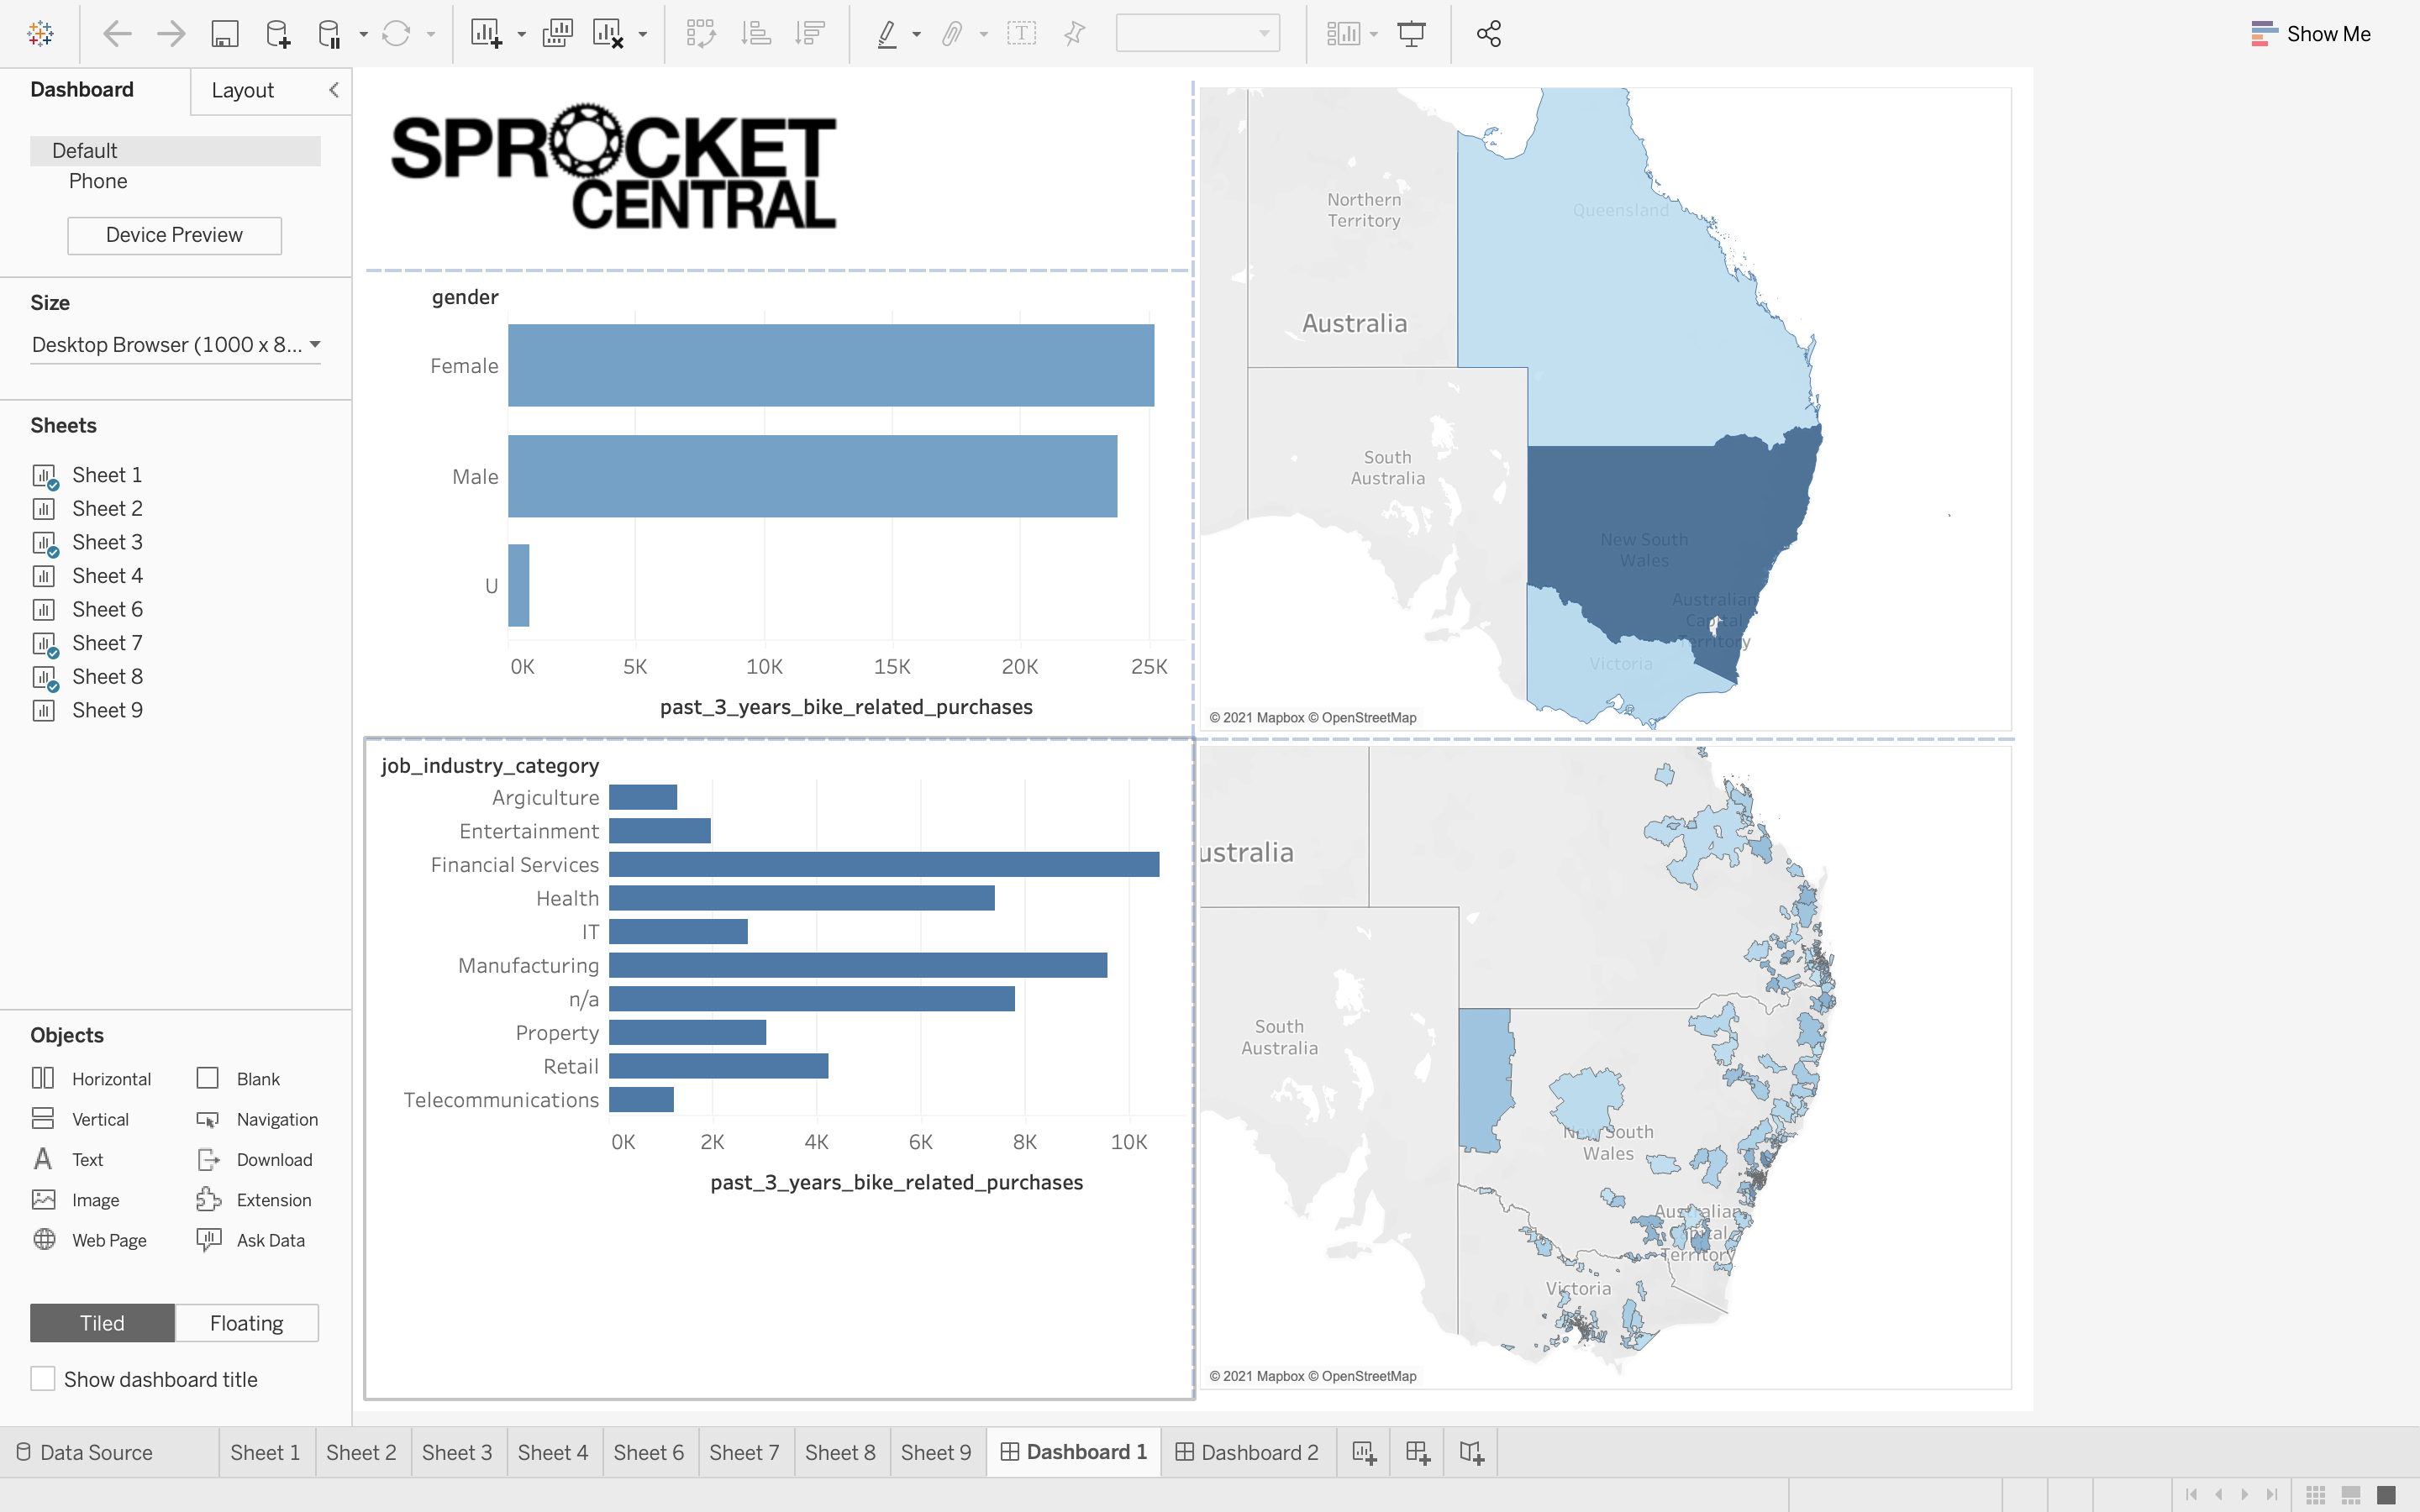

The dashboard page shown, as its layout file describes it:
{"tool":"tableau","page":{"name":"Dashboard 1","canvas":[1000,800],"ordinal":0},"visuals":[{"type":"image","param":"/Users/arpitabhattacharya/Desktop/Warwick /Internship/KPMG/title.png","box":[8,8,492,113]},{"type":"worksheet","title":"Sheet 7","mark":"Multipolygon","box":[500,8,492,392]},{"type":"worksheet","title":"Sheet 1","mark":"Automatic","rows":["gender"],"cols":["past_3_years_bike_related_purchases"],"box":[8,121,492,279]},{"type":"worksheet","title":"Sheet 3","mark":"Automatic","rows":["job_industry_category"],"cols":["past_3_years_bike_related_purchases"],"box":[8,400,492,392]},{"type":"worksheet","title":"Sheet 8","mark":"Multipolygon","box":[500,400,492,392]}]}

Visuals, with their boxes on the page's 1000x800 design canvas (x1, y1, x2, y2). These are canvas units, not pixel positions in the 2420x1512 screenshot, which may show the page scaled, cropped or inside an application window:
image: x1=8 y1=8 x2=500 y2=121
"Sheet 7" worksheet (Multipolygon marks): x1=500 y1=8 x2=992 y2=400
"Sheet 1" worksheet: x1=8 y1=121 x2=500 y2=400
"Sheet 3" worksheet: x1=8 y1=400 x2=500 y2=792
"Sheet 8" worksheet (Multipolygon marks): x1=500 y1=400 x2=992 y2=792
